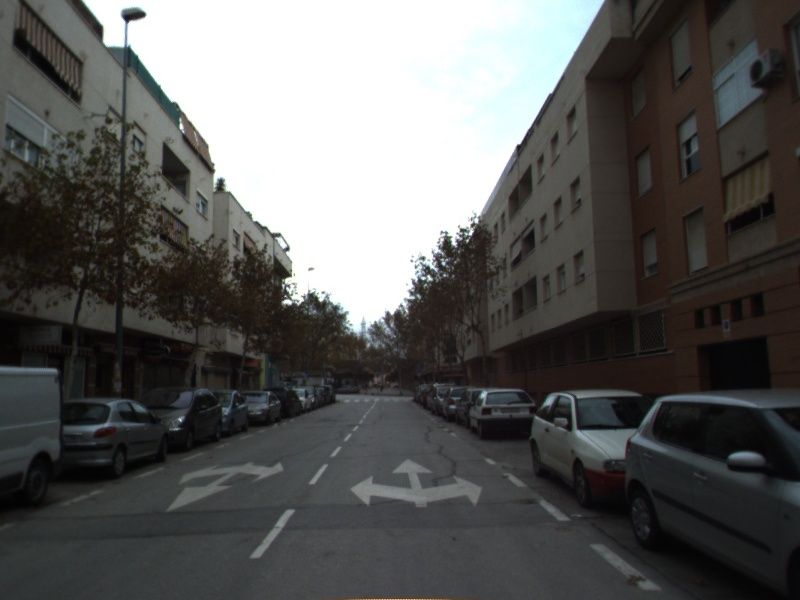STRAIGHT_LEFT_RIGHT: (348, 456, 485, 509)
